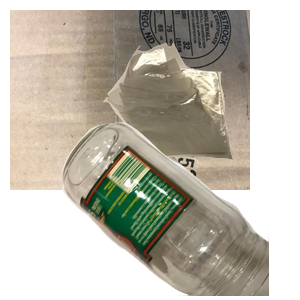cardboard: (10, 10, 250, 190)
glass: (60, 120, 300, 300)
plastic: (91, 152, 281, 300)
trash: (101, 40, 300, 192)
